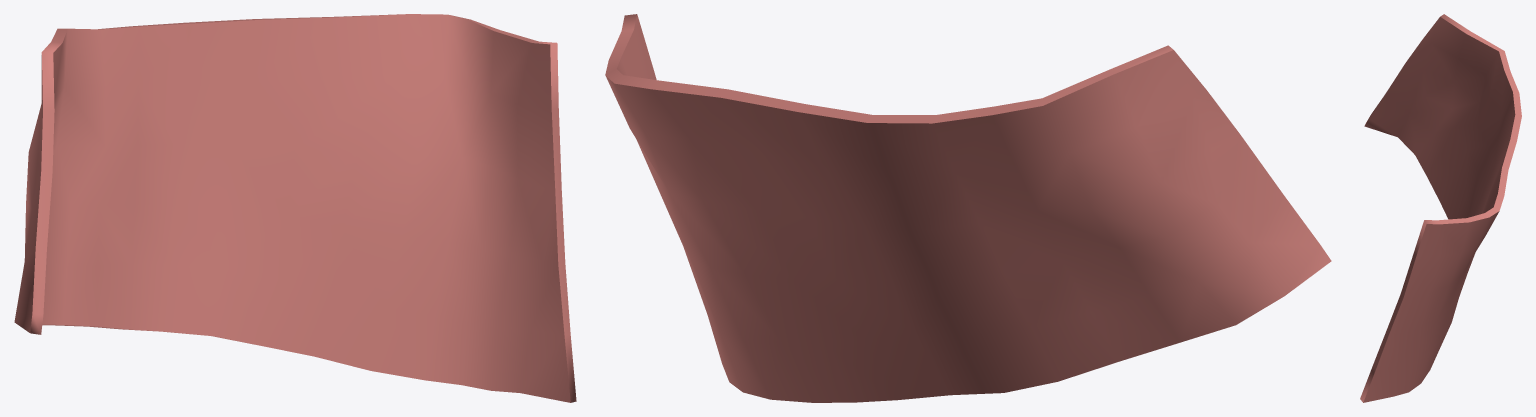
3 renders of one model, left to right at view 1: azimuth 30°, elevation 25°; view 2: azimuth 150°, elevation 25°; view 3: azimuth 270°, elevation 25°, orthographic. The views are drawn at different scales.
Parts seen in each view (by area): view 1: ZA_a777e1eb8ac244bd; view 2: ZA_a777e1eb8ac244bd; view 3: ZA_a777e1eb8ac244bd.
Part boxes in pixels (x1,y1,x2,y2): ZA_a777e1eb8ac244bd: [14, 14, 576, 402]; ZA_a777e1eb8ac244bd: [605, 14, 1331, 402]; ZA_a777e1eb8ac244bd: [1360, 14, 1521, 402].
Size of the model in its own units: 0.0576 by 0.04 by 0.0232.
